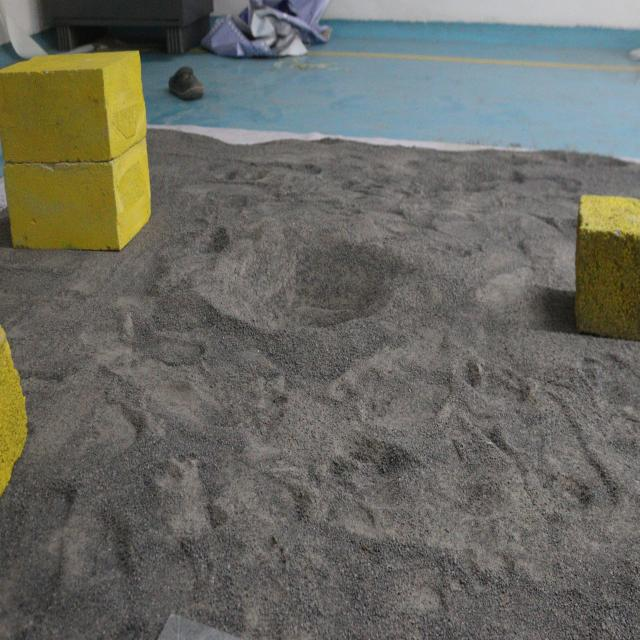box: (0, 58, 165, 253), (572, 181, 640, 356)
crater: (192, 223, 427, 353)
